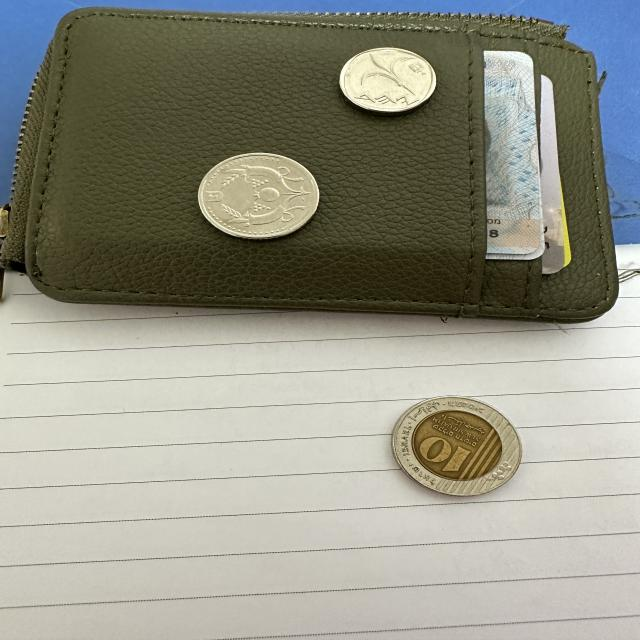1-shekel: (335, 48, 441, 114)
10-shekel: (390, 395, 525, 497)
2-shekel: (195, 151, 324, 242)
